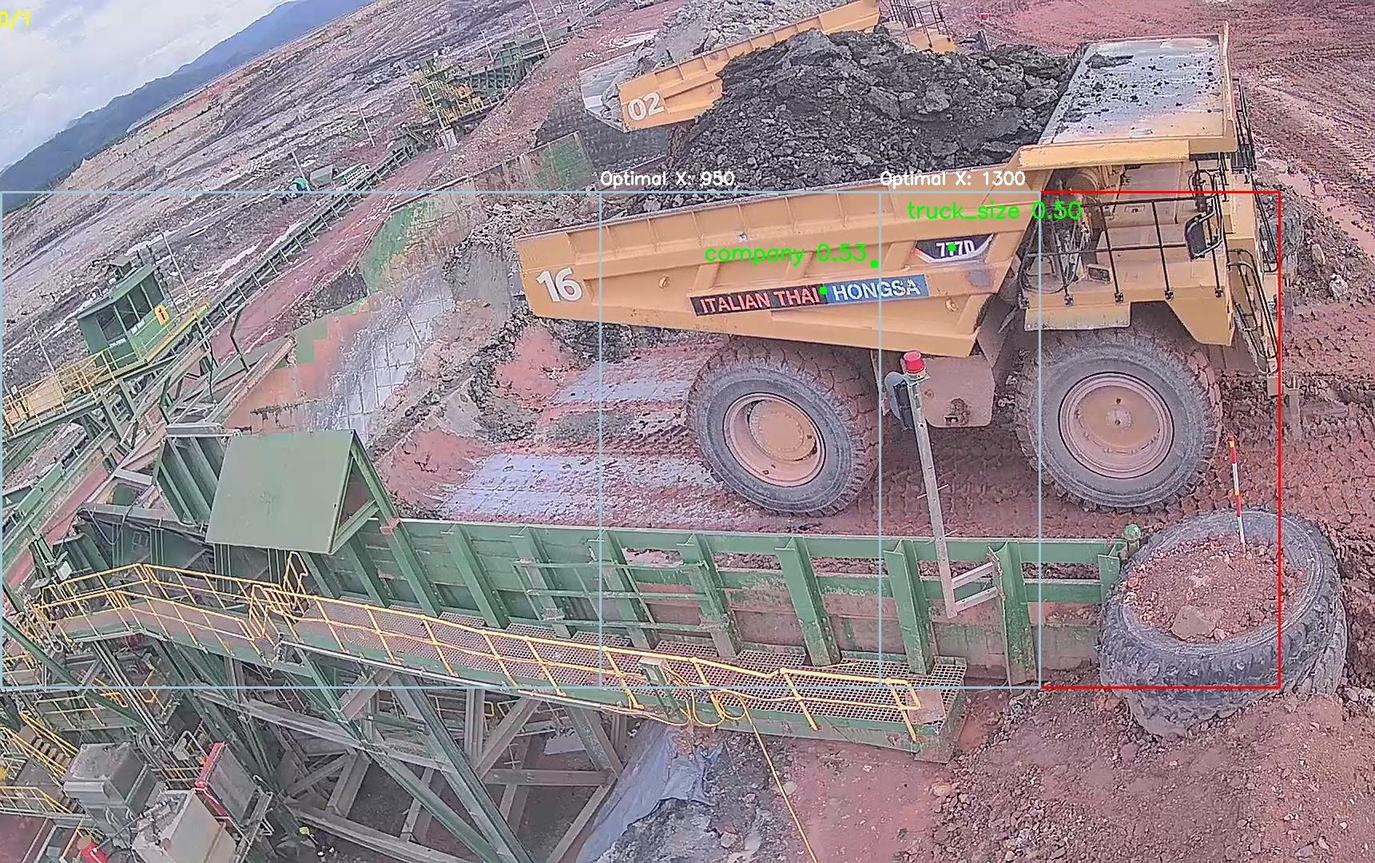company: (683, 261, 938, 323)
full_load: (680, 34, 1020, 207)
mining_truck: (501, 22, 1305, 506)
tail_number: (530, 255, 596, 312)
truck_size: (910, 232, 1001, 264)
